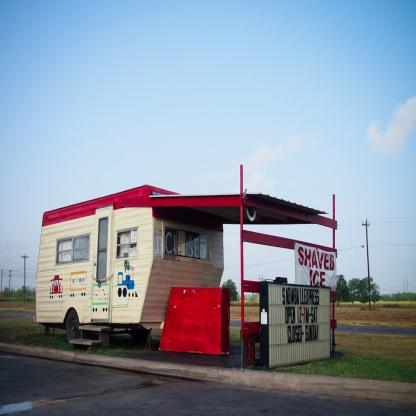Truck: (35, 184, 224, 346)
